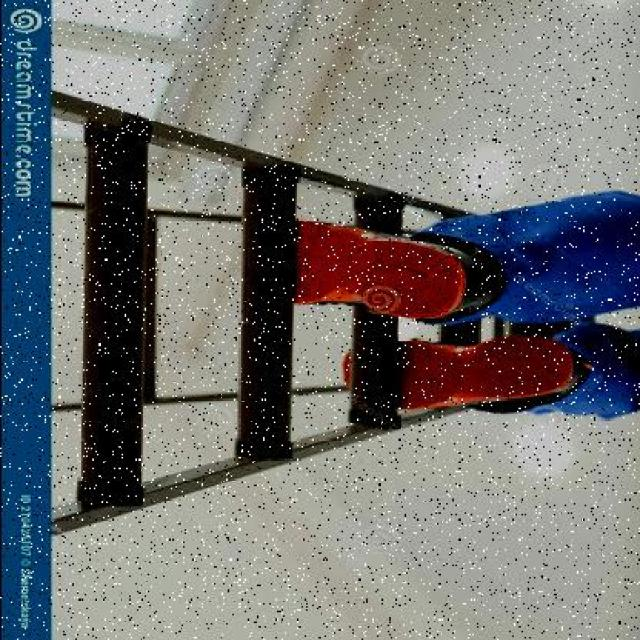shoes: (277, 225, 491, 322), (404, 338, 571, 409)
